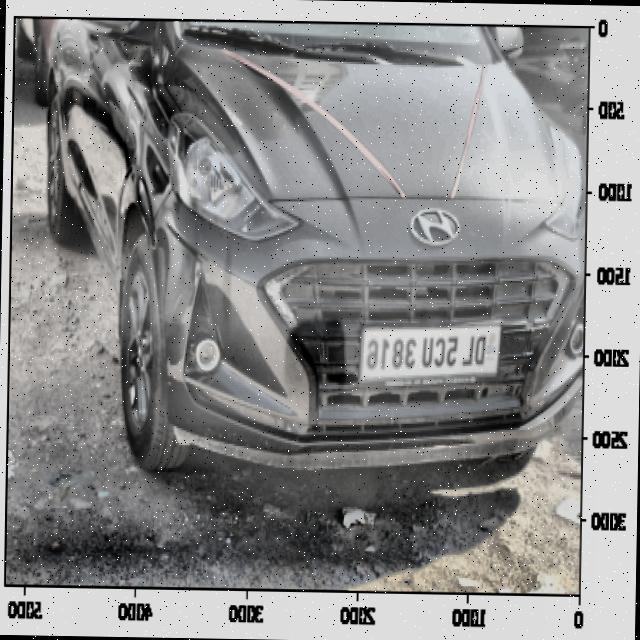license_plate: (362, 319, 499, 381)
